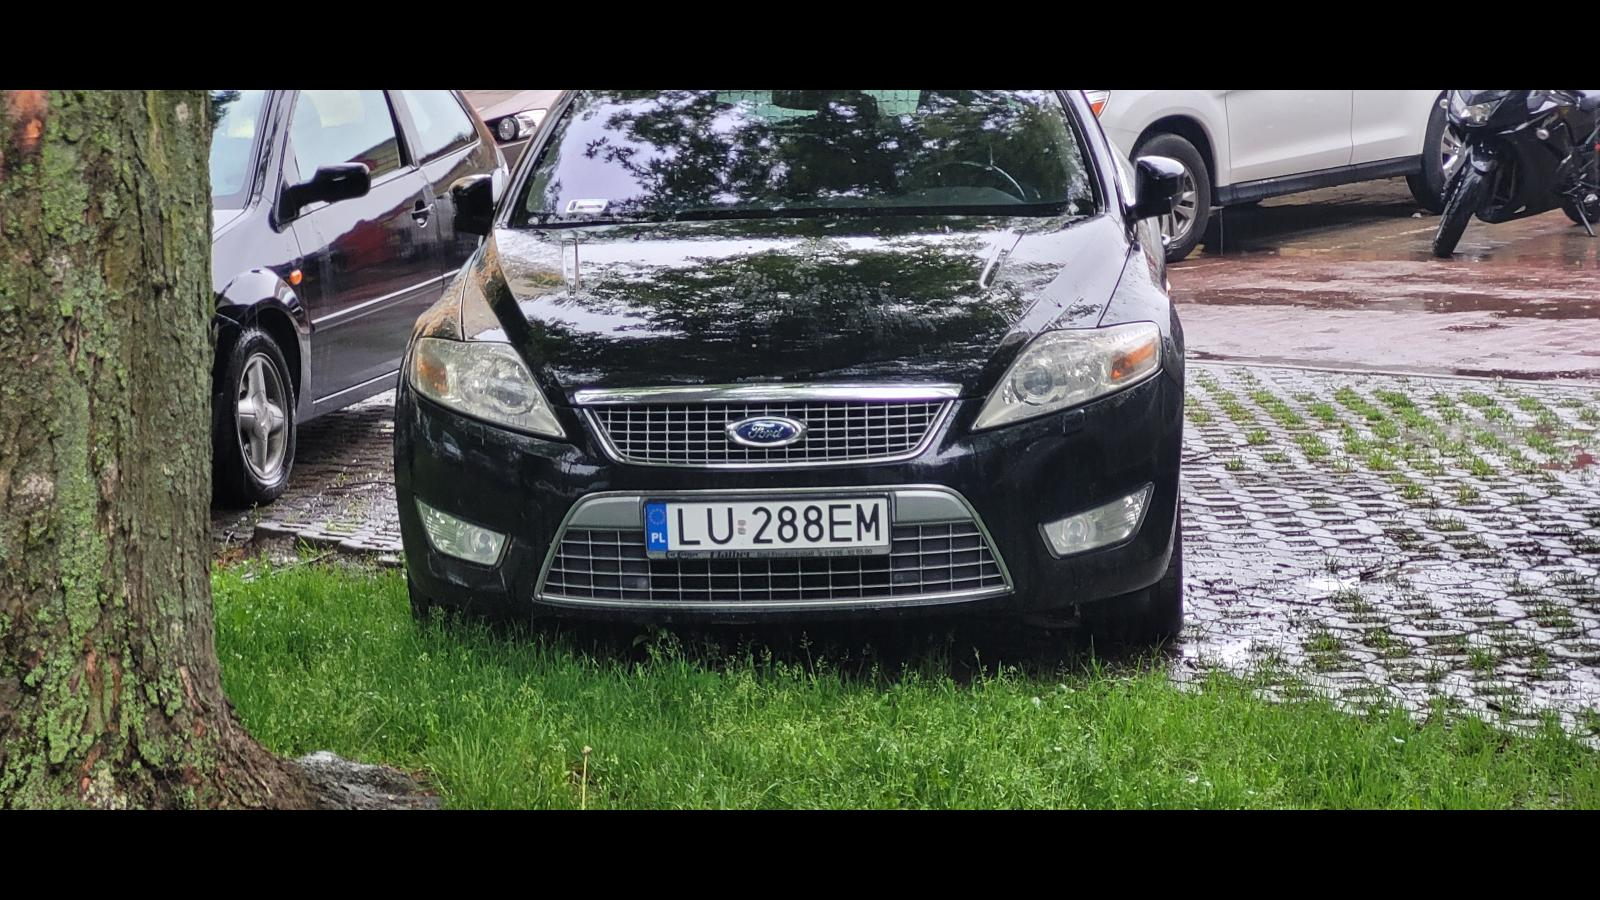plates: (644, 493, 892, 559)
